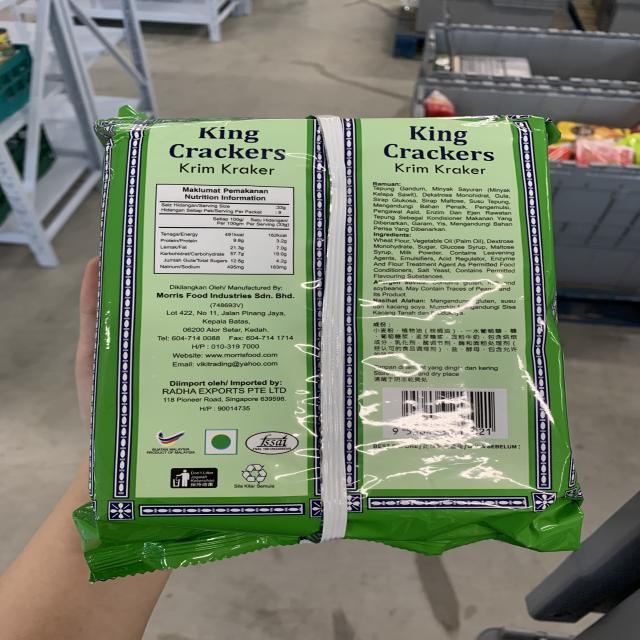object_name: (107, 118, 551, 545)
